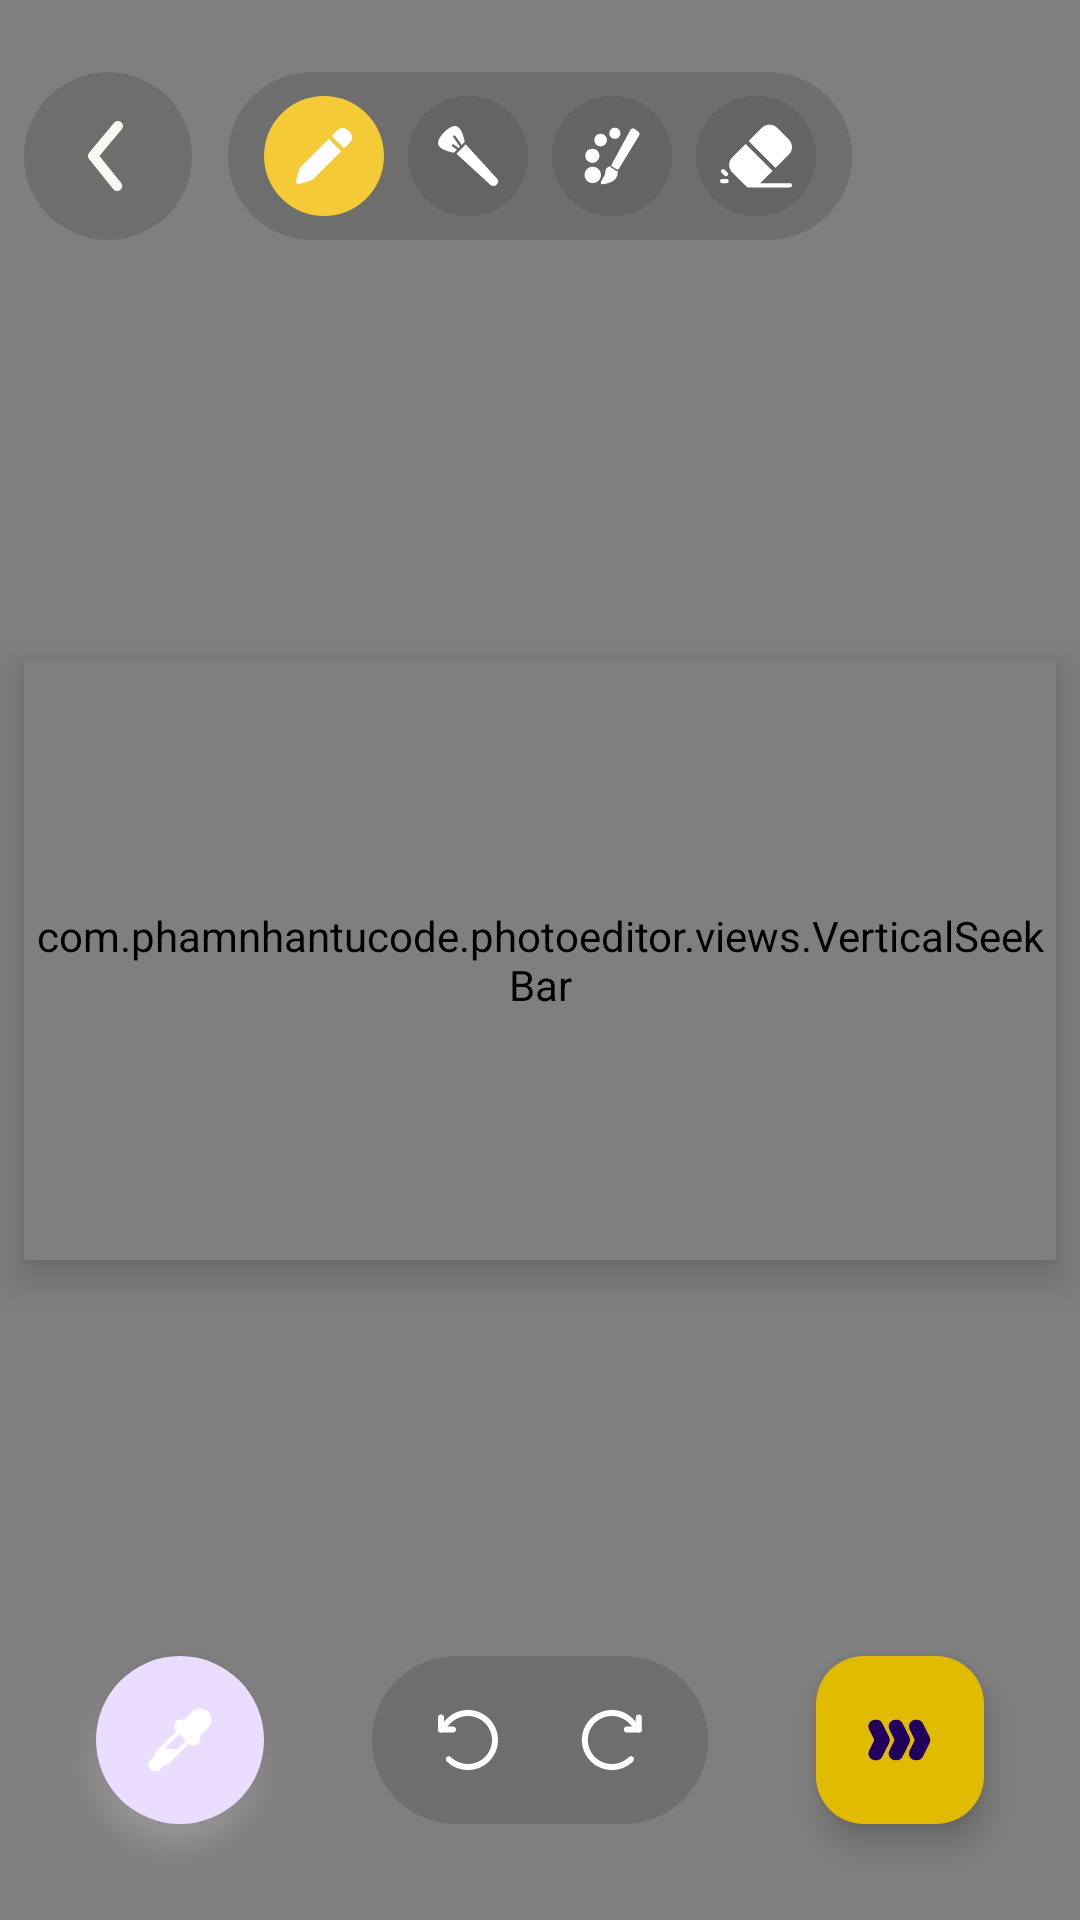

Where icons sit on this 1080x1920 app screen, as (x1, y1, x2, y2):
back: (24, 72, 192, 240)
brush: (408, 96, 528, 216)
eraser: (720, 124, 792, 188)
next: (816, 1656, 984, 1824)
pen: (264, 96, 384, 216)
picker: (96, 1656, 264, 1824)
redo: (581, 1710, 642, 1770)
undo: (438, 1710, 498, 1770)
